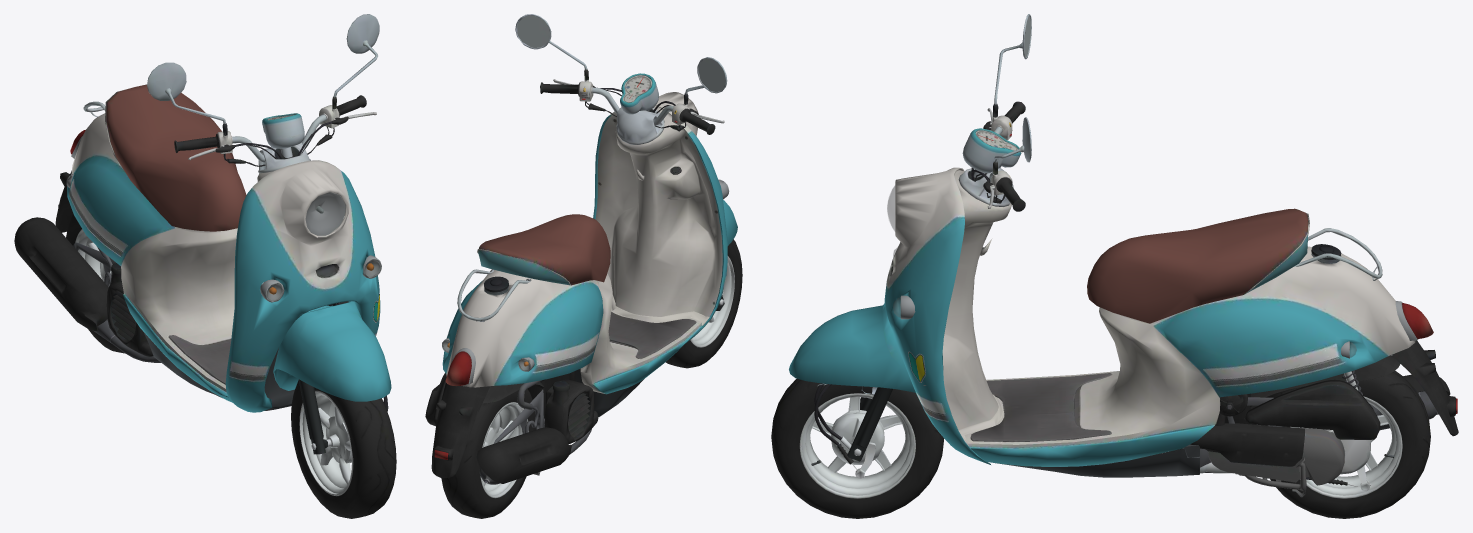
File: k1_vino.glb
The picture shows the model from 3 angles, left to right: view 1: azimuth 30°, elevation 25°; view 2: azimuth 150°, elevation 25°; view 3: azimuth 270°, elevation 25°; orthographic projection. The views are drawn at different scales.
Parts seen in each view (by area): view 1: Plane003_Main Body_0, Plane003_SmallParts_0, Plane003_Tire_0, Plane003_Lamp & Glass_0, Plane003_Glass_0; view 2: Plane003_Main Body_0, Plane003_SmallParts_0, Plane003_Tire_0, Plane003_Lamp & Glass_0, Plane003_Glass_0; view 3: Plane003_Main Body_0, Plane003_SmallParts_0, Plane003_Tire_0, Plane003_Lamp & Glass_0, Plane003_Glass_0.
Part boxes in pixels (left/top/right/bottom): Plane003_Main Body_0: left=67, top=84, right=391, bottom=454; Plane003_SmallParts_0: left=14, top=14, right=388, bottom=449; Plane003_Tire_0: left=66, top=214, right=396, bottom=518; Plane003_Lamp & Glass_0: left=66, top=130, right=381, bottom=302; Plane003_Glass_0: left=67, top=114, right=381, bottom=301; Plane003_Main Body_0: left=442, top=92, right=737, bottom=417; Plane003_SmallParts_0: left=425, top=14, right=727, bottom=484; Plane003_Tire_0: left=441, top=239, right=742, bottom=518; Plane003_Lamp & Glass_0: left=434, top=179, right=729, bottom=459; Plane003_Glass_0: left=442, top=75, right=651, bottom=371; Plane003_Main Body_0: left=789, top=167, right=1415, bottom=477; Plane003_SmallParts_0: left=814, top=14, right=1458, bottom=497; Plane003_Tire_0: left=771, top=370, right=1430, bottom=518; Plane003_Lamp & Glass_0: left=900, top=295, right=1457, bottom=413; Plane003_Glass_0: left=887, top=130, right=1356, bottom=357.
Size of the model in its own units: 0.6793 by 1.16 by 1.62.
6 materials, 6 textured.
